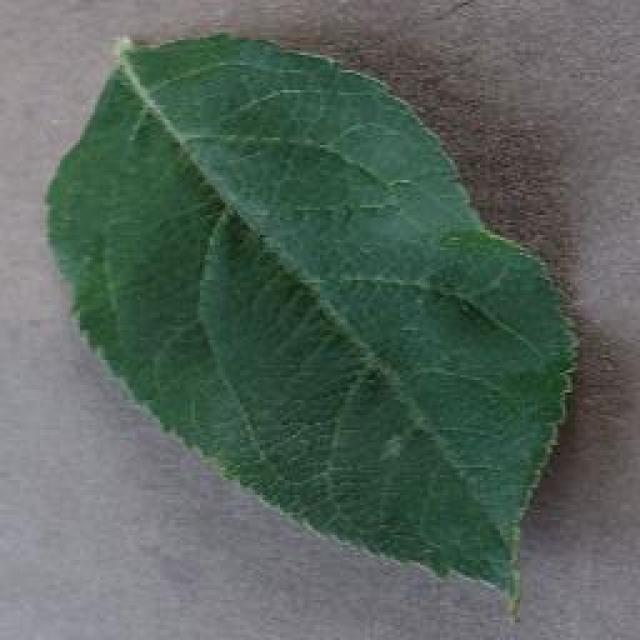apple healthy: (42, 28, 582, 620)
